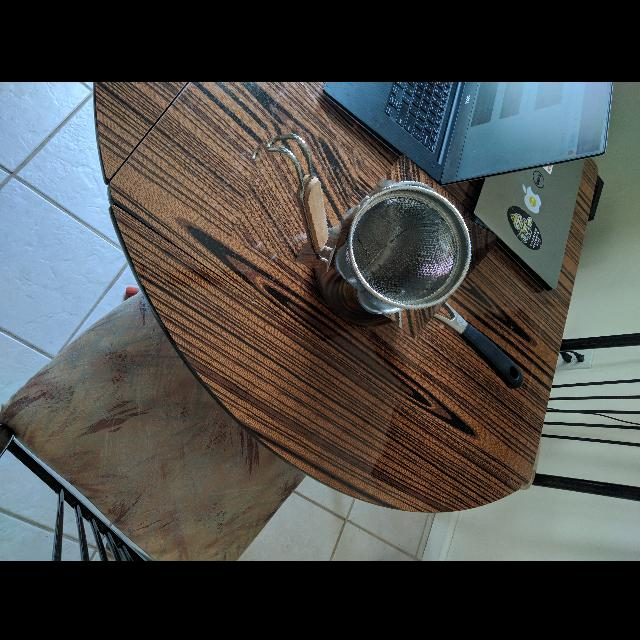Handle: (265, 129, 336, 269)
Strainer: (343, 180, 472, 315)
